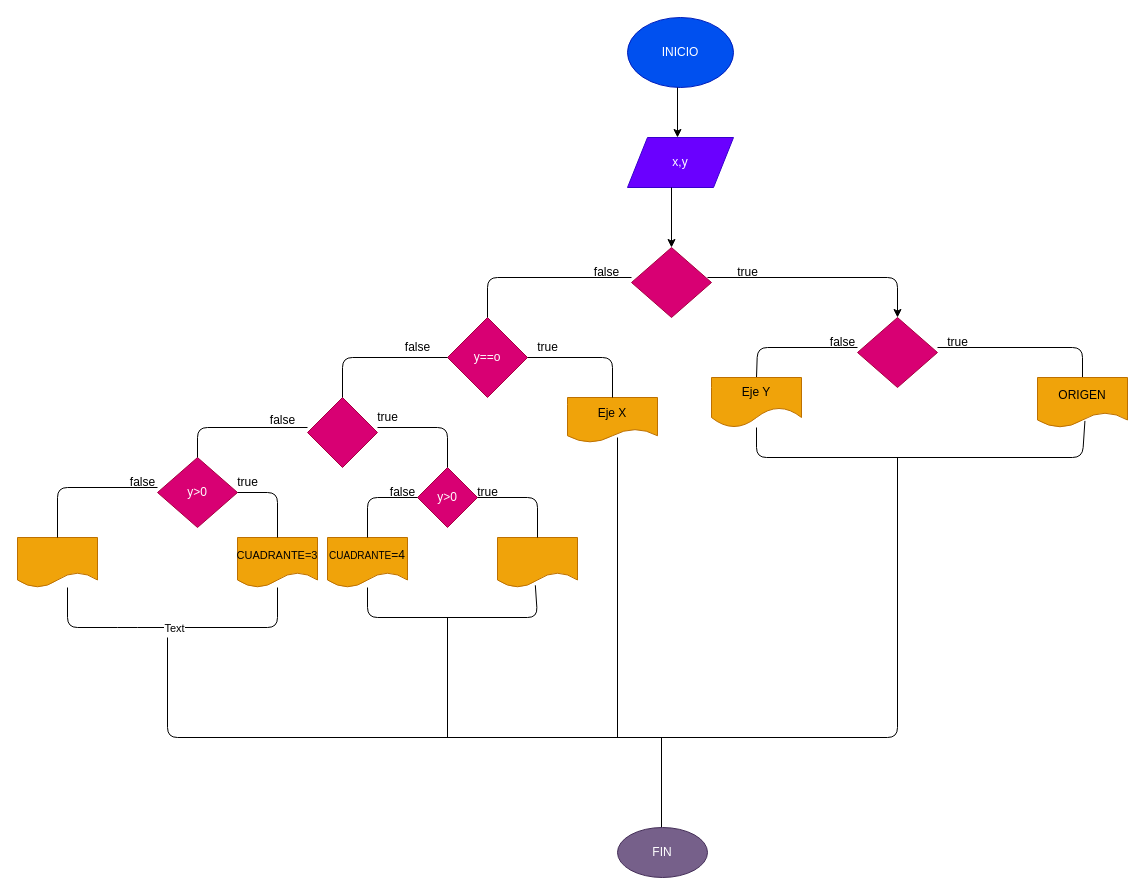
Some shapes in this 1145 by 895 pixel diagram are drawn without their labels. Each missing label, with the centre of its shape:
"CADRANTE=2" goes at (57,562).
"CUARANTE=1" goes at (537,562).
"X=0" goes at (342,432).
"x==" goes at (671,282).
"y==0" goes at (897,352).
